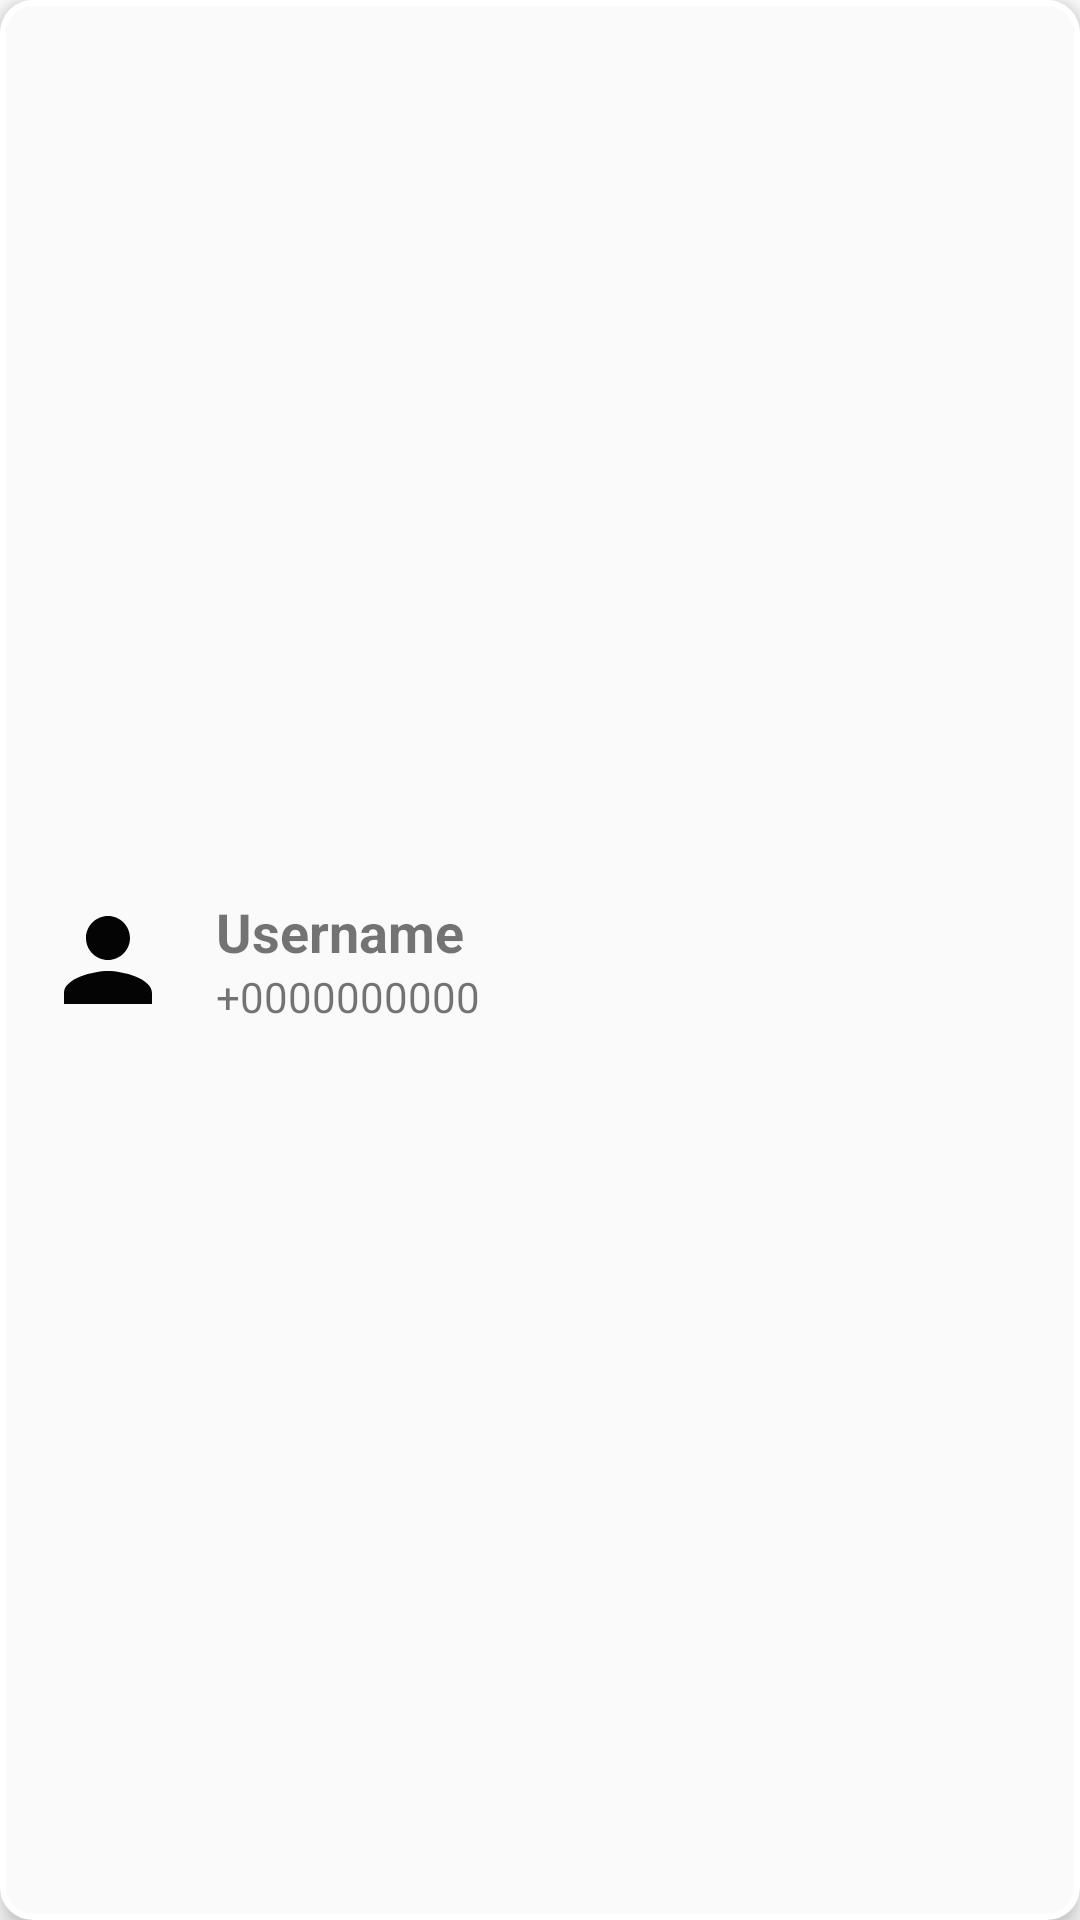

Point at icon controls on the screen. Image size 1080*1920, points as (x,y).
person: (108,960)
